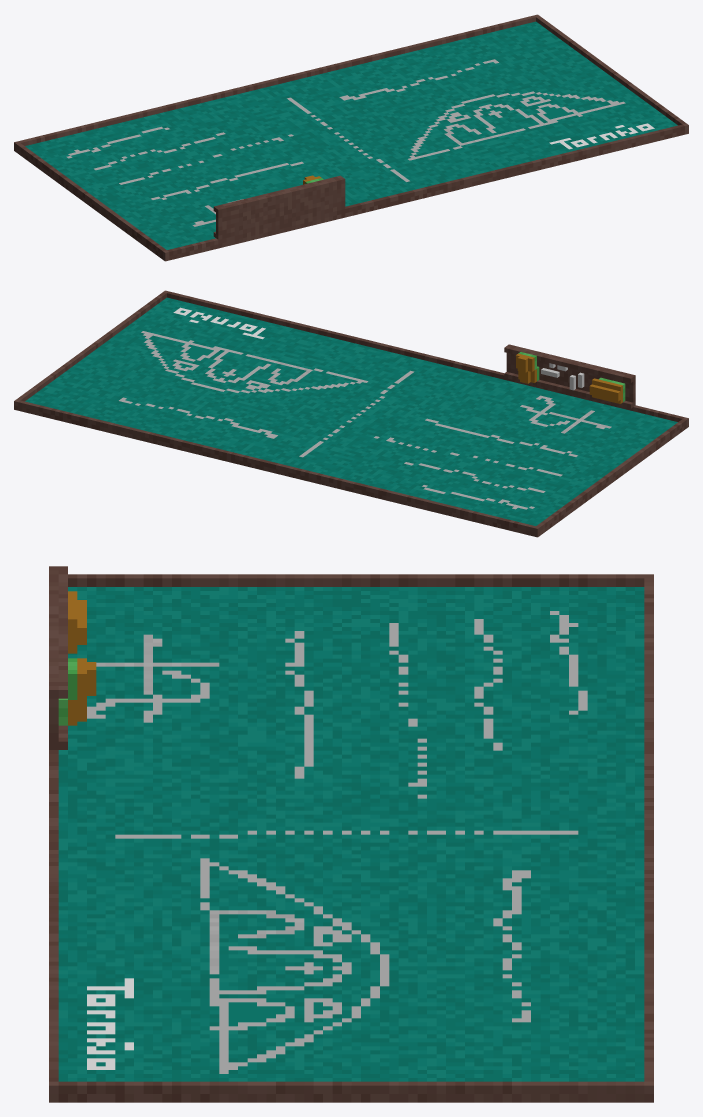
Rendered from pizarra1.obj.
3 views of the same model, one above another, from view 1: azimuth 30°, elevation 25°; view 2: azimuth 150°, elevation 25°; view 3: azimuth 270°, elevation 25° (orthographic). The views are drawn at different scales.
Size of the model in its own units: 12.8 by 0.9 by 6.4.
Materials: 1 (1 with a texture image).
